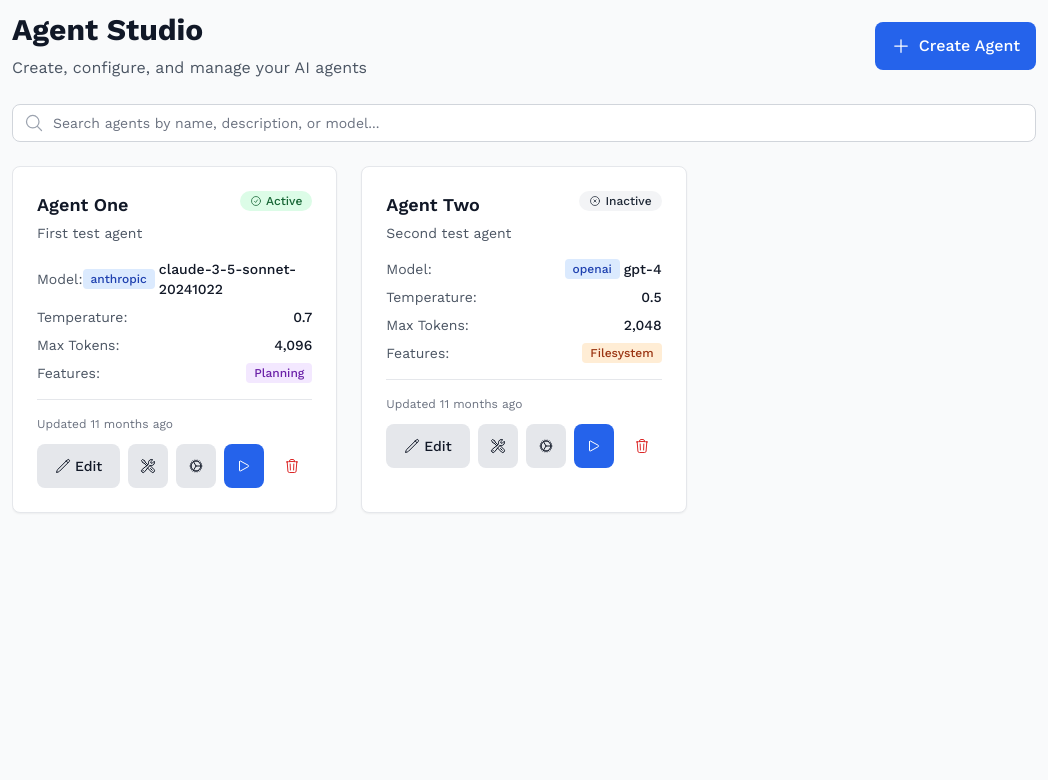
Test: AgentStudio › shows no results message when search has no matches
The width and height of the screenshot is (1048, 780).
Step 1. Type "NonexistentAgent" into the search field with placeholder "Search agents by name, description, or model..." → (524, 123), box [12,104,1036,142]
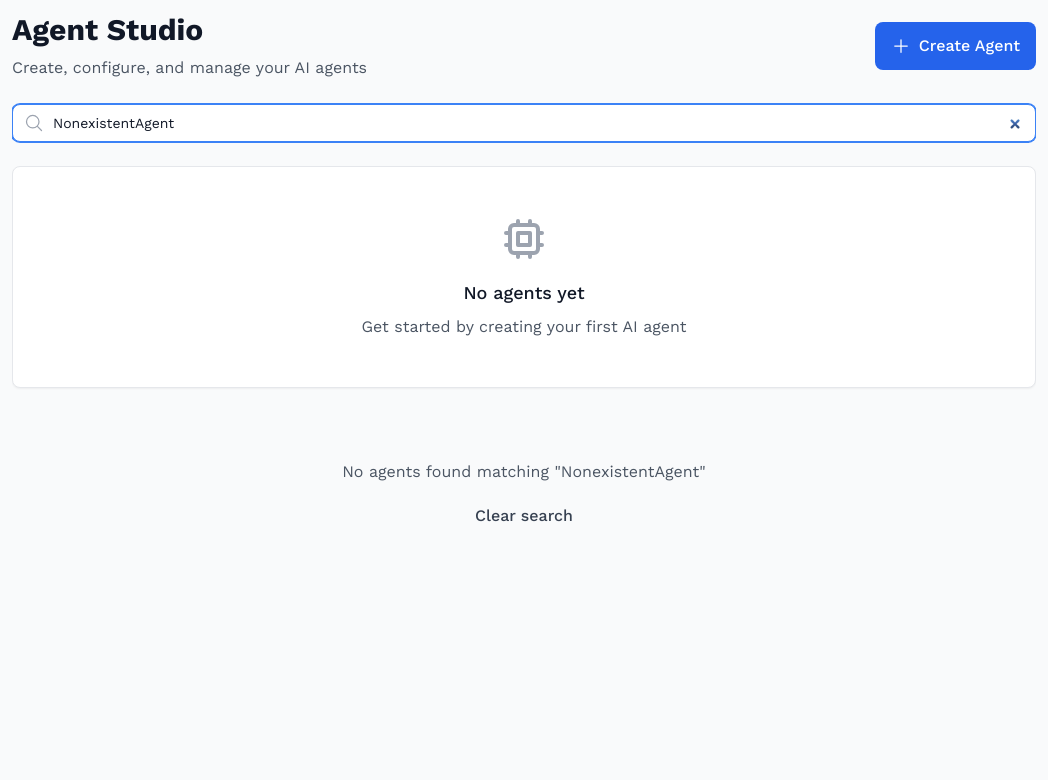
Now the text "No agents found matching \"NonexistentAgent\"" is shown, box [342,462,706,481]
Now the button "Clear search" is shown, box [459,492,589,540]
